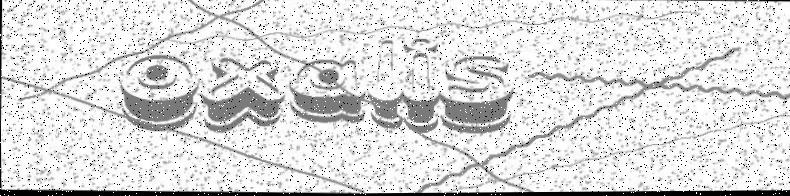a: (287, 57, 365, 125)
i: (400, 37, 440, 135)
l: (365, 39, 405, 130)
o: (117, 53, 201, 134)
s: (439, 54, 514, 135)
x: (201, 57, 286, 135)
